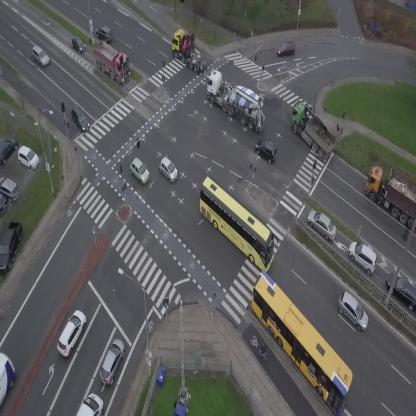bicycle: (259, 344, 266, 361)
bus: (233, 269, 368, 416), (184, 174, 289, 273)
car: (52, 308, 91, 358), (332, 290, 376, 333), (96, 336, 130, 387), (343, 237, 385, 277), (302, 206, 343, 244), (251, 135, 282, 165), (125, 156, 154, 185), (155, 156, 183, 183), (67, 104, 92, 134), (28, 43, 52, 69), (93, 23, 116, 44), (67, 33, 88, 55), (276, 41, 295, 56)
lorry: (197, 64, 279, 135), (281, 98, 343, 161), (85, 36, 139, 87), (164, 23, 210, 79), (0, 353, 15, 404), (77, 393, 104, 416)
